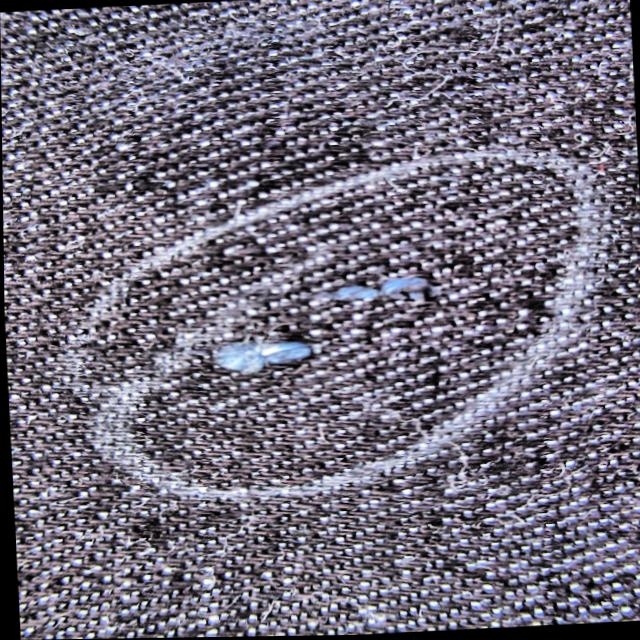Hole: (211, 339, 313, 374), (339, 275, 433, 301)
